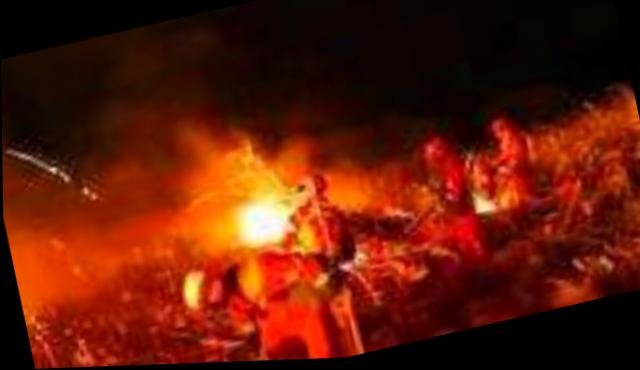fire: (185, 147, 297, 259)
